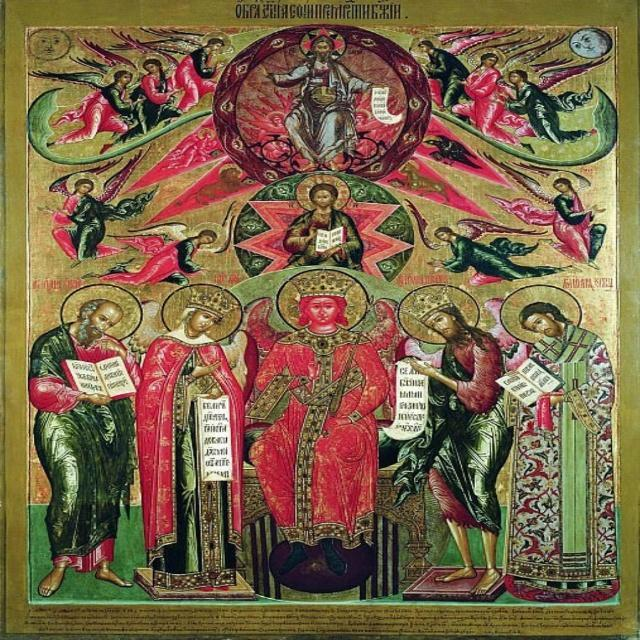angel: (248, 270, 400, 597), (400, 199, 584, 282), (36, 144, 159, 267), (485, 154, 614, 271), (86, 207, 239, 292), (86, 32, 188, 154), (449, 34, 567, 136), (502, 65, 611, 149), (29, 61, 134, 144), (132, 29, 232, 111), (410, 24, 516, 101)
aura: (275, 269, 370, 334), (501, 284, 583, 344), (59, 284, 142, 343), (163, 283, 244, 342), (400, 284, 478, 343), (296, 172, 349, 212), (301, 28, 344, 59), (64, 172, 104, 196), (428, 218, 461, 244), (194, 223, 229, 247), (551, 171, 581, 197), (505, 65, 542, 86), (409, 34, 442, 55), (202, 31, 232, 54), (108, 62, 139, 84), (471, 49, 505, 69), (138, 53, 169, 72), (352, 109, 372, 124), (269, 111, 285, 125)
book: (498, 358, 568, 408), (59, 358, 136, 399), (316, 229, 347, 251)
christ: (292, 172, 368, 270)
christ_face: (309, 184, 338, 209)
christ_hand: (304, 219, 322, 243)
cross: (567, 331, 591, 360), (538, 338, 564, 359)
crown: (401, 286, 449, 322), (188, 284, 239, 314), (293, 271, 354, 296)
fire_tongue: (238, 91, 401, 162)
moon: (569, 26, 615, 61)
saint: (500, 280, 621, 602), (136, 284, 256, 596), (399, 284, 515, 598), (30, 284, 141, 598)
scroll: (381, 357, 429, 441), (192, 395, 236, 484), (372, 88, 401, 123)
sun: (29, 28, 71, 62)
the_father: (255, 24, 402, 170)
wing: (479, 154, 557, 202), (99, 144, 151, 202), (458, 214, 553, 241), (540, 55, 614, 89), (225, 331, 259, 401), (245, 299, 291, 349), (451, 30, 518, 58), (30, 64, 104, 89), (77, 37, 132, 67), (510, 37, 568, 65), (136, 28, 202, 51), (371, 297, 400, 349), (129, 221, 193, 241), (135, 302, 162, 346)
